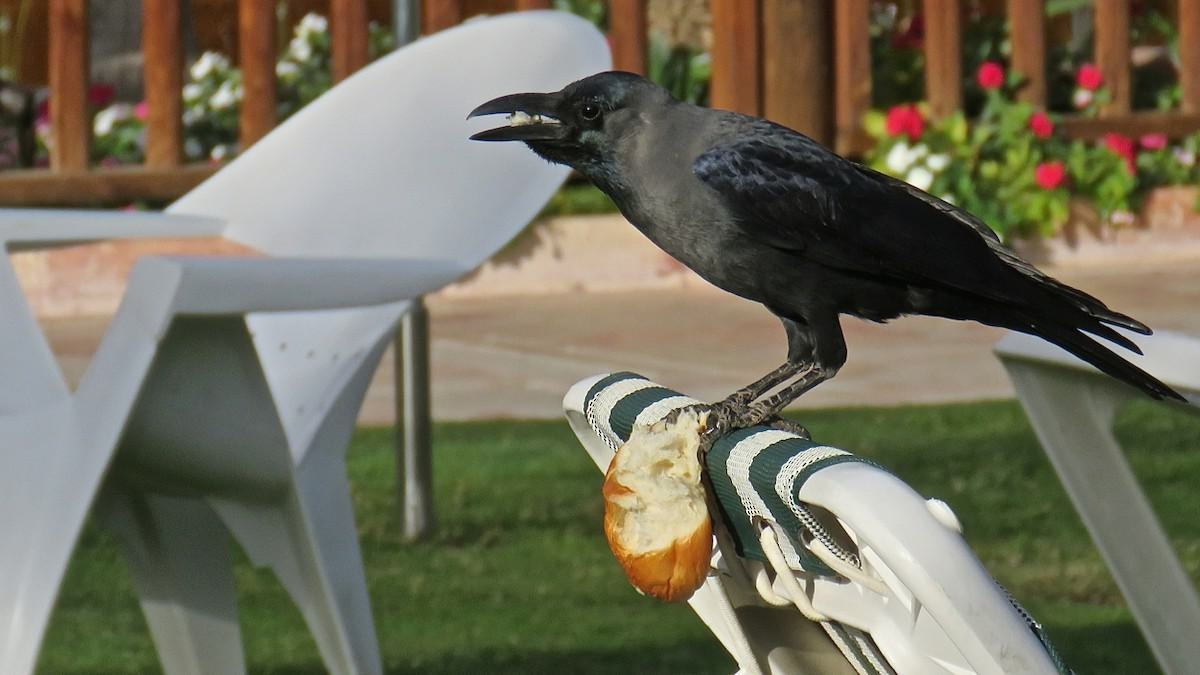crow: (463, 58, 1173, 437)
